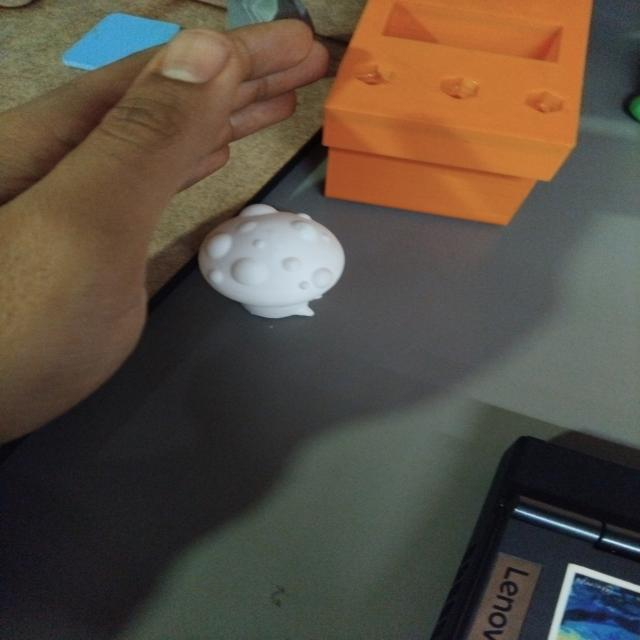Hongo: (189, 205, 355, 324)
